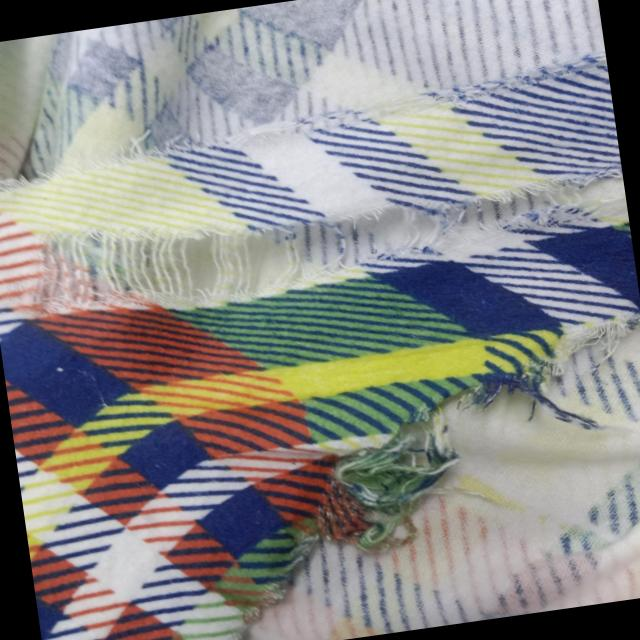cut: (233, 309, 640, 588), (44, 162, 629, 326), (0, 47, 580, 197)
